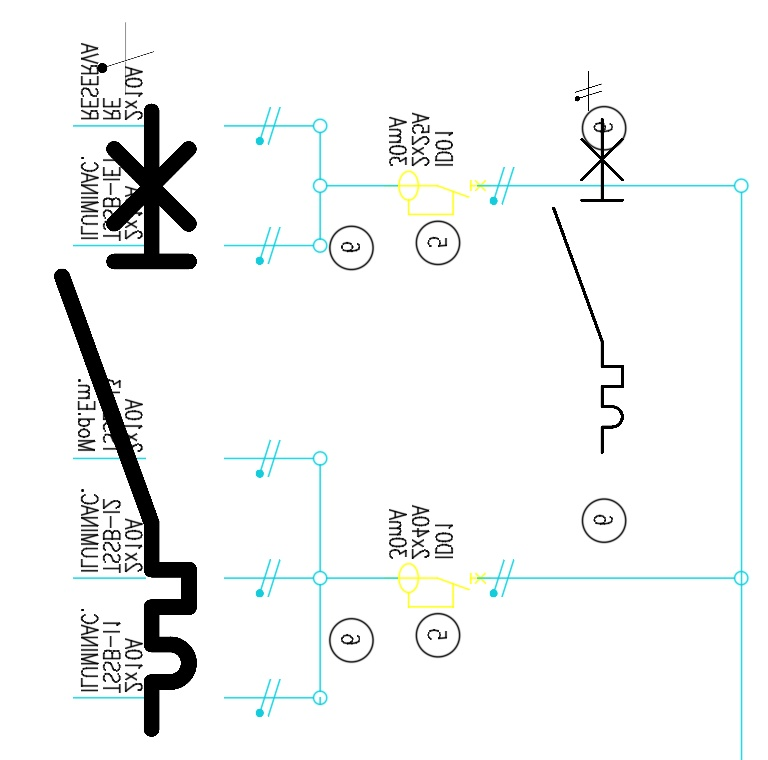interruptor_termomagnetico: (46, 95, 205, 745), (545, 110, 631, 460)
